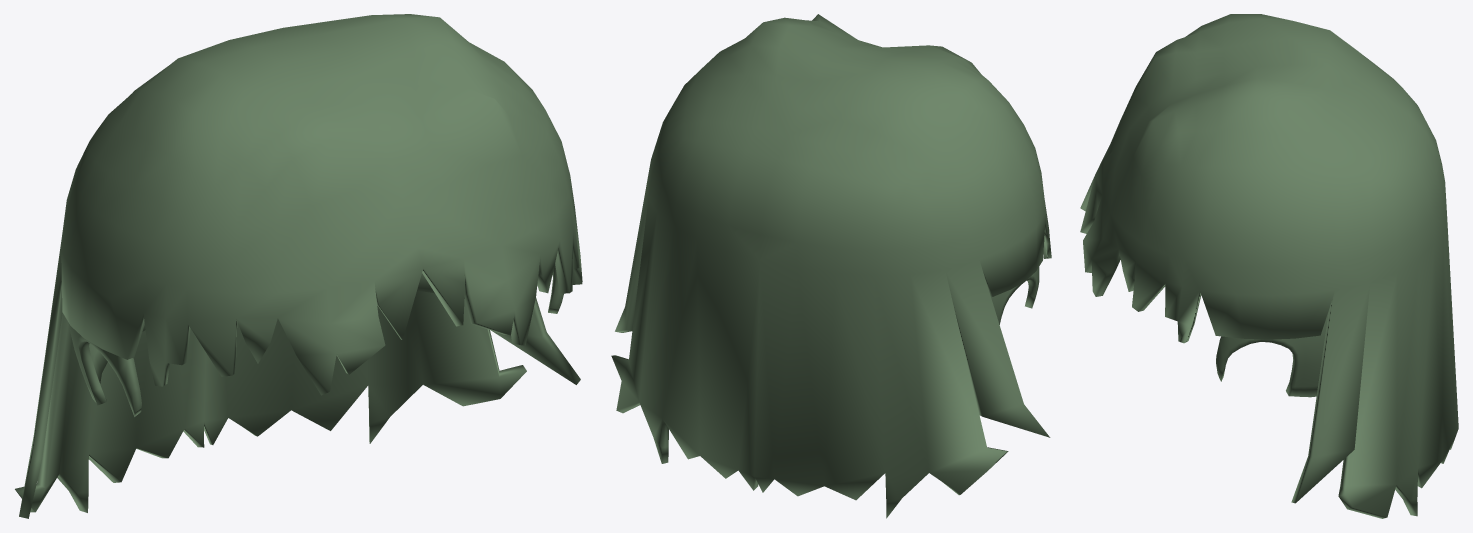
File: Aquarium_Green.glb
3 renders of one model, left to right at view 1: azimuth 30°, elevation 25°; view 2: azimuth 150°, elevation 25°; view 3: azimuth 270°, elevation 25°, orthographic. The views are drawn at different scales.
Parts seen in each view (by area): view 1: Aquarium_Green; view 2: Aquarium_Green; view 3: Aquarium_Green.
Part boxes in pixels (x1,y1,x2,y2): Aquarium_Green: (15,14,582,518); Aquarium_Green: (611,14,1051,518); Aquarium_Green: (1080,14,1458,518).
Size of the model in its own units: 1.19 by 1.03 by 0.8545.
